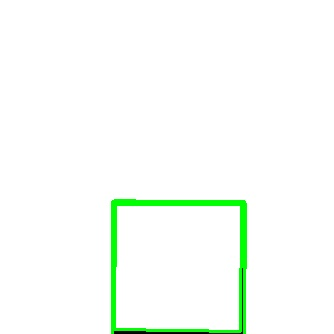line_segment: (111, 200, 246, 334), (114, 203, 243, 332)
